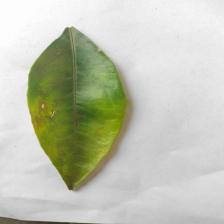black spot: (27, 88, 85, 134)
